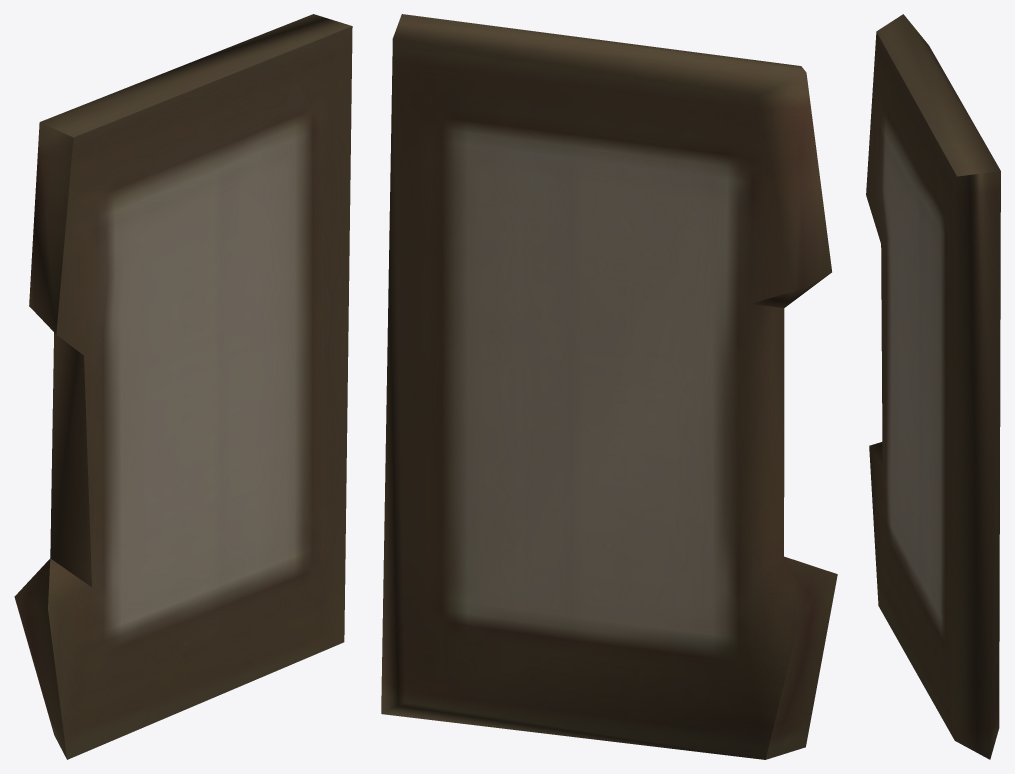
File: door2.obj
3 renders of one model, left to right at view 1: azimuth 30°, elevation 25°; view 2: azimuth 150°, elevation 25°; view 3: azimuth 270°, elevation 25°, orthographic. The views are drawn at different scales.
Visible parts, largest first — view 1: Doorgeom1; view 2: Doorgeom1; view 3: Doorgeom1.
Boxes of the visible parts, box(x1,y1,x2,y2) form: Doorgeom1: box(14, 14, 352, 759); Doorgeom1: box(381, 14, 837, 759); Doorgeom1: box(866, 14, 1000, 759).
Size of the model in its own units: 1.35 by 2.33 by 0.4832.
1 material, 1 textured.
